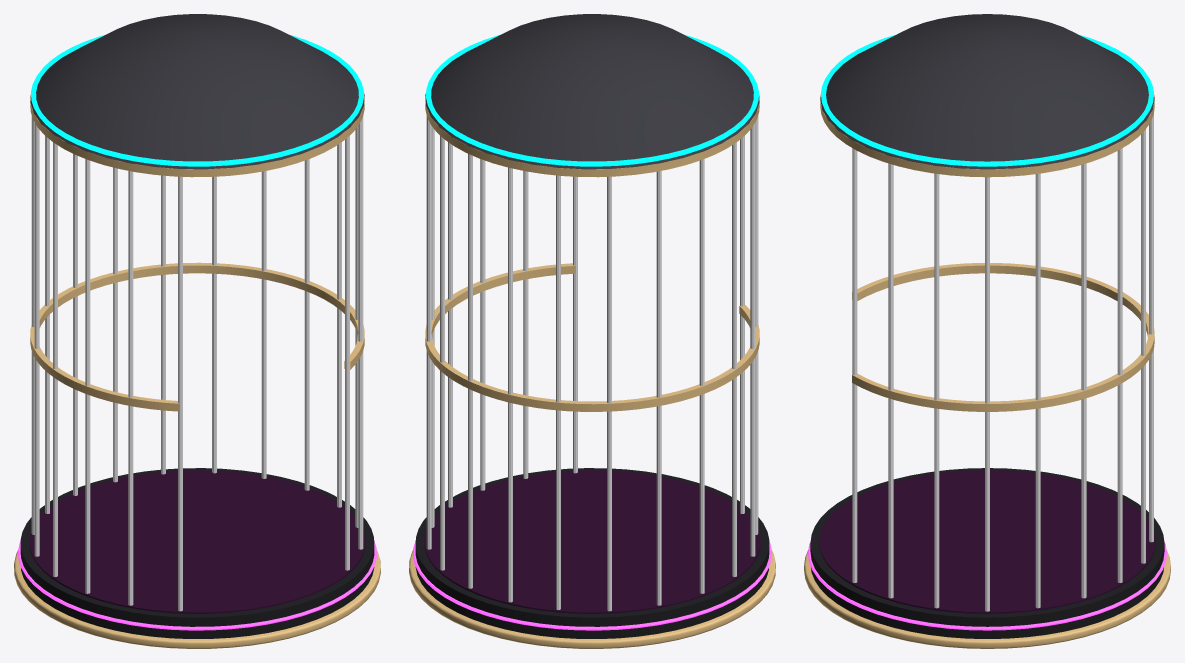
Rendered from KIT_Gaiola_Danca.glb.
3 renders of one model, left to right at view 1: azimuth 30°, elevation 25°; view 2: azimuth 150°, elevation 25°; view 3: azimuth 270°, elevation 25°, orthographic.
Visible parts, largest first — view 1: KIT_Gaiola_Danca; view 2: KIT_Gaiola_Danca; view 3: KIT_Gaiola_Danca.
Part boxes in pixels (<box>): KIT_Gaiola_Danca: <box>14,14,380,648</box>; KIT_Gaiola_Danca: <box>409,14,775,648</box>; KIT_Gaiola_Danca: <box>804,14,1170,648</box>.
Size of the model in its own units: 1.7 by 2.7 by 1.7.
